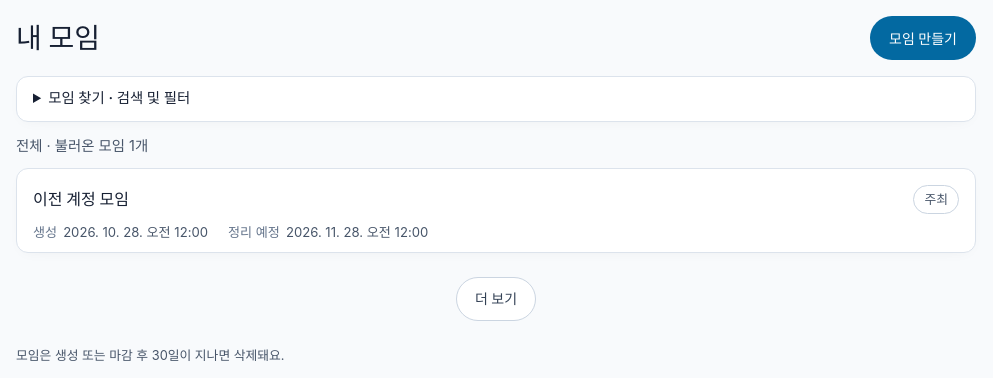
Scenario: account-based room history › hides previously loaded rows after a next-page authorization denial
Check: the link "이전 계정 모임 주최" is shown, box [33,178,959,222]
Click the button "더 보기" at (496, 299), box [456,277,536,321]
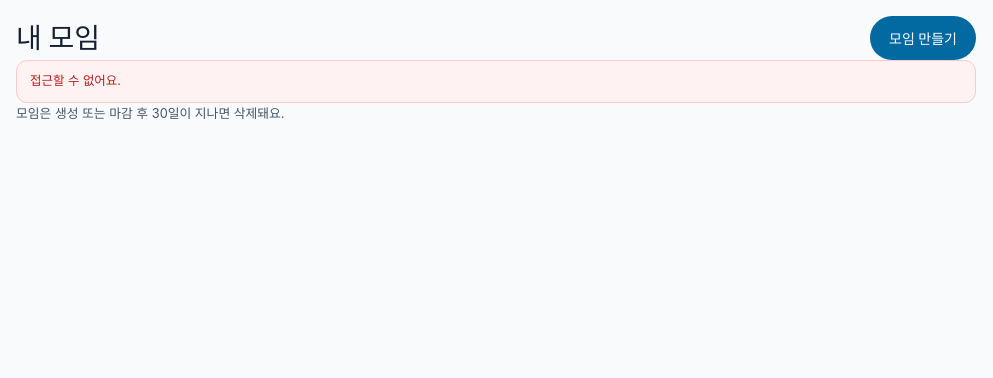
Check: the message shows "접근할 수 없어요", box [30,73,121,88]
Check: the link "이전 계정 모임" is gone
Check: the button "더 보기" is gone
